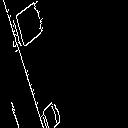cube: (7, 2, 53, 51), (32, 99, 70, 128)
